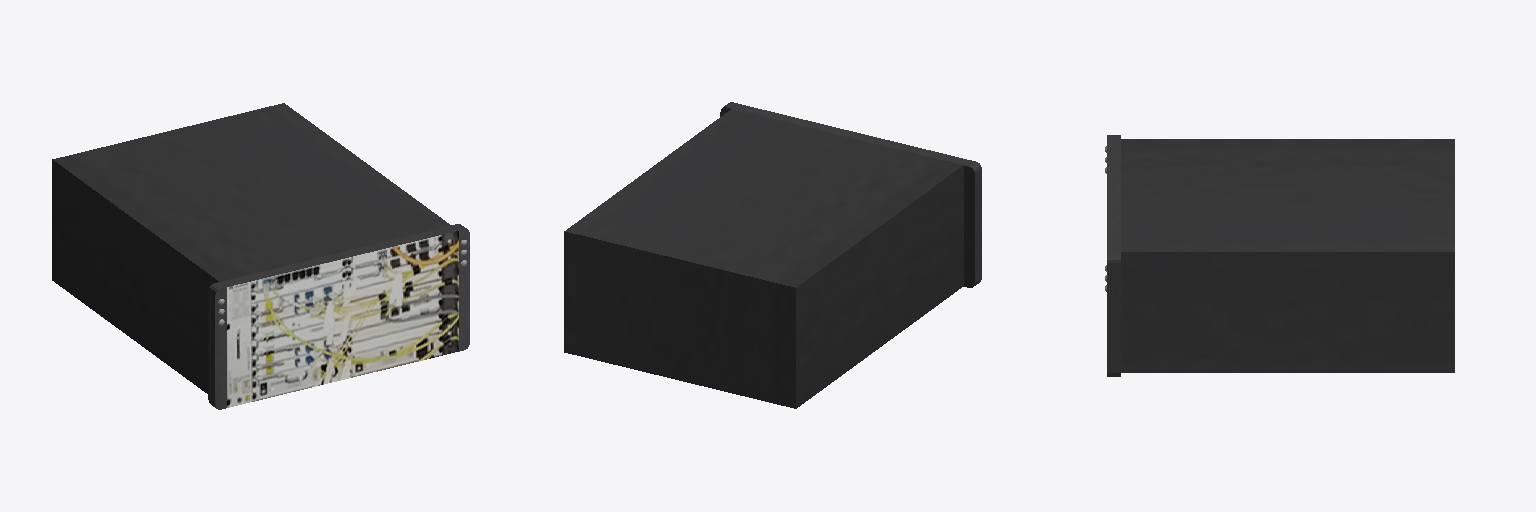
3 views of the same model, side by side, from view 1: azimuth 30°, elevation 25°; view 2: azimuth 150°, elevation 25°; view 3: azimuth 270°, elevation 25° (orthographic).
Visible parts, largest first — view 1: Box001; view 2: Box001; view 3: Box001.
Boxes of the visible parts, <box> form: Box001: <box>52,103,469,409</box>; Box001: <box>564,102,981,408</box>; Box001: <box>1105,135,1454,376</box>.
Size of the model in its own units: 44.8 by 20.4 by 53.51.
1 materials, 1 textured.